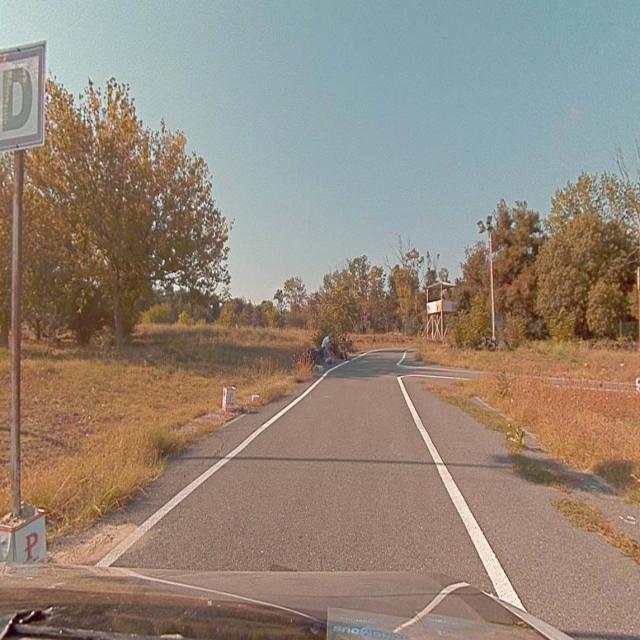durak: (1, 39, 47, 150)
